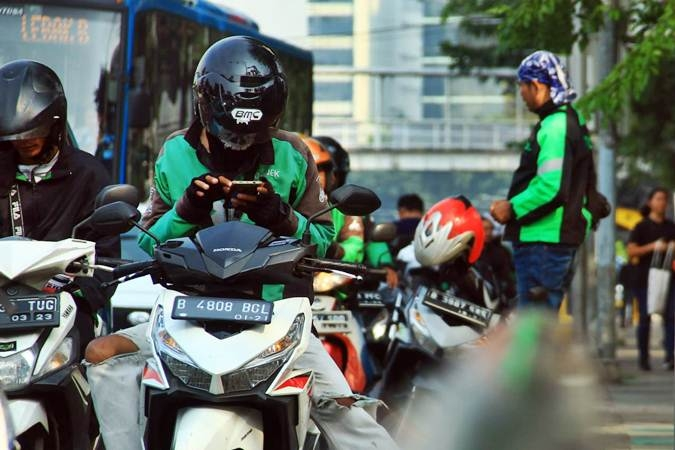plate: (175, 296, 270, 327), (425, 286, 489, 329)
